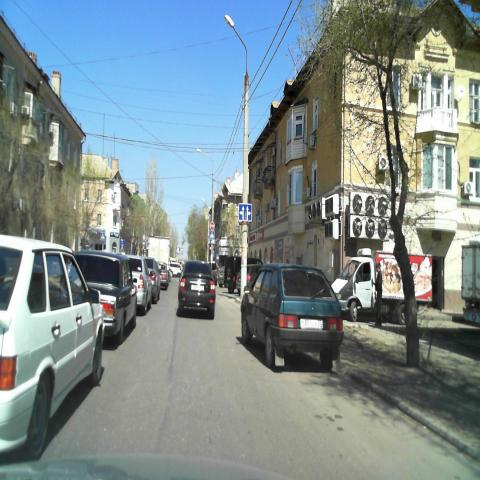5_15_2_2: (238, 203, 252, 222)
